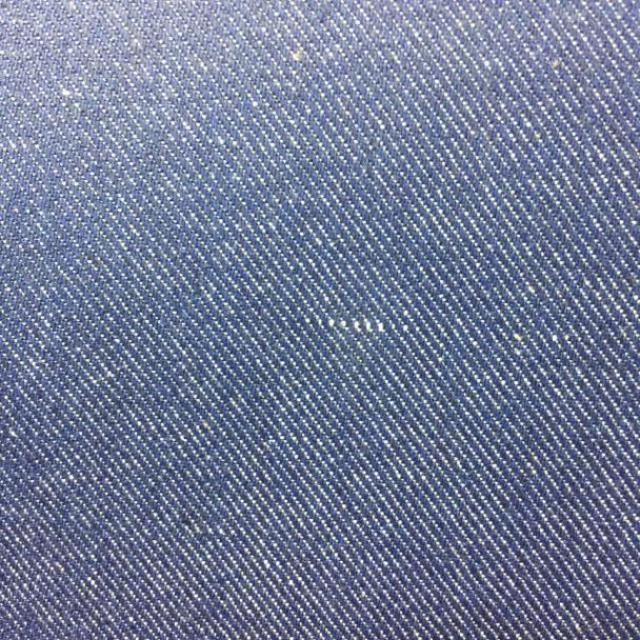Knot: (314, 316, 411, 334)
